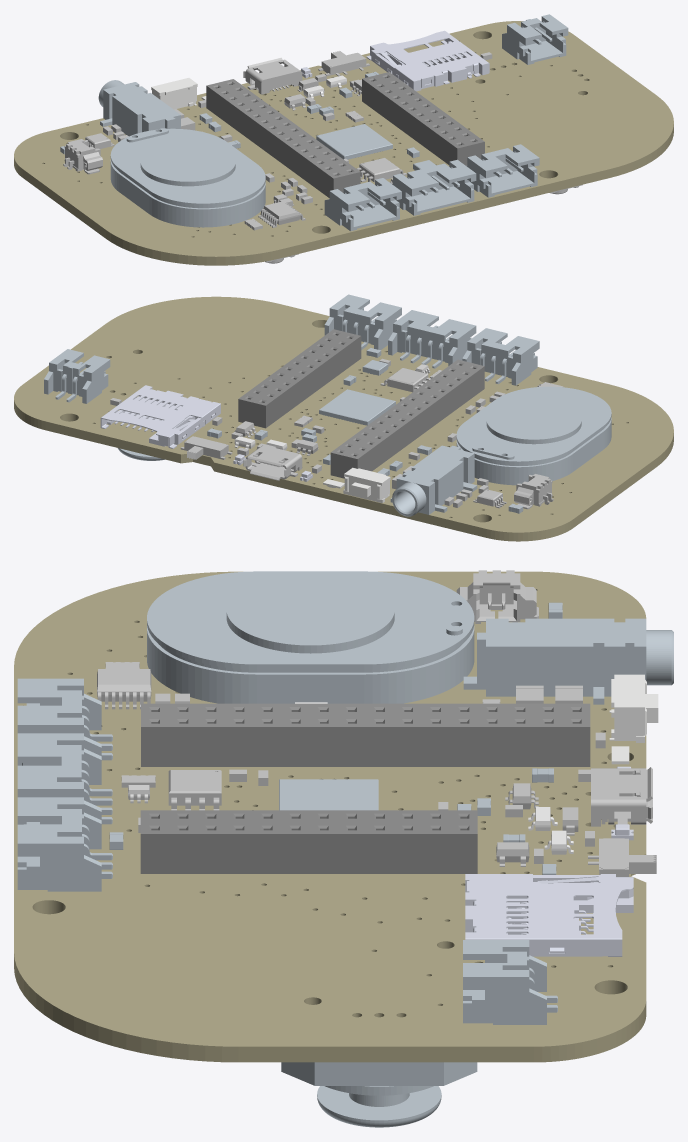
The picture shows the model from 3 angles, top to bottom: view 1: azimuth 30°, elevation 25°; view 2: azimuth 150°, elevation 25°; view 3: azimuth 270°, elevation 25°; orthographic projection. The views are drawn at different scales.
Visible parts, largest first — view 1: Board:1, SPEAKER_OVAL8OHM:U$8, 2x16 short female v1:1, 2x12 short female v1:1, MICROSD:X5, JSTPH4:I2C, 4UCONN_19269:X6, JSTPH3:NEOPIX, JSTPH3:SENSE, JSTPH2:X1, PQFN64-1:U$24, 4UCONN_20329_V2:X3 (+5 smaller); view 2: Board:1, SPEAKER_OVAL8OHM:U$8, 2x16 short female v1:1, 2x12 short female v1:1, MICROSD:X5, 4UCONN_19269:X6, JSTPH4:I2C, JSTPH3:NEOPIX, JSTPH3:SENSE, JSTPH2:X1, PQFN64-1:U$24, 4UCONN_20329_V2:X3 (+5 smaller); view 3: Board:1, SPEAKER_OVAL8OHM:U$8, 2x16 short female v1:1, 2x12 short female v1:1, 4UCONN_19269:X6, MICROSD:X5, JOYSTICK_ANALOG_MINITHM:JOY1, JSTPH3:SENSE, JSTPH2:X1, JSTPH4:I2C, JSTPH3:NEOPIX, 4UCONN_20329_V2:X3 (+6 smaller).
Boxes of the visible parts, <box> form: Board:1: <box>14,21,673,265</box>; SPEAKER_OVAL8OHM:U$8: <box>110,128,265,227</box>; 2x16 short female v1:1: <box>206,79,360,197</box>; 2x12 short female v1:1: <box>362,72,484,165</box>; MICROSD:X5: <box>366,30,489,91</box>; JSTPH4:I2C: <box>392,159,476,215</box>; 4UCONN_19269:X6: <box>98,80,180,136</box>; JSTPH3:NEOPIX: <box>324,178,401,231</box>; JSTPH3:SENSE: <box>466,144,539,197</box>; JSTPH2:X1: <box>502,14,568,64</box>; PQFN64-1:U$24: <box>316,124,392,159</box>; 4UCONN_20329_V2:X3: <box>243,57,302,94</box>; Board:1: <box>14,296,673,541</box>; SPEAKER_OVAL8OHM:U$8: <box>456,386,611,485</box>; 2x16 short female v1:1: <box>330,359,484,478</box>; 2x12 short female v1:1: <box>238,329,361,428</box>; MICROSD:X5: <box>100,385,220,448</box>; 4UCONN_19269:X6: <box>390,445,477,516</box>; JSTPH4:I2C: <box>388,310,476,368</box>; JSTPH3:NEOPIX: <box>462,328,539,385</box>; JSTPH3:SENSE: <box>324,294,401,350</box>; JSTPH2:X1: <box>44,349,110,403</box>; PQFN64-1:U$24: <box>319,389,395,425</box>; 4UCONN_20329_V2:X3: <box>243,445,302,480</box>; Board:1: <box>14,571,646,1062</box>; SPEAKER_OVAL8OHM:U$8: <box>147,571,474,703</box>; 2x16 short female v1:1: <box>141,703,590,766</box>; 2x12 short female v1:1: <box>140,810,477,873</box>; 4UCONN_19269:X6: <box>463,618,673,704</box>; MICROSD:X5: <box>465,874,633,956</box>; JOYSTICK_ANALOG_MINITHM:JOY1: <box>281,1062,477,1127</box>; JSTPH3:SENSE: <box>17,797,112,891</box>; JSTPH2:X1: <box>463,940,557,1024</box>; JSTPH4:I2C: <box>17,733,112,824</box>; JSTPH3:NEOPIX: <box>17,678,112,760</box>; 4UCONN_20329_V2:X3: <box>591,767,652,826</box>.
Size of the model in its own units: 0.1016 by 0.0181 by 0.0596.
